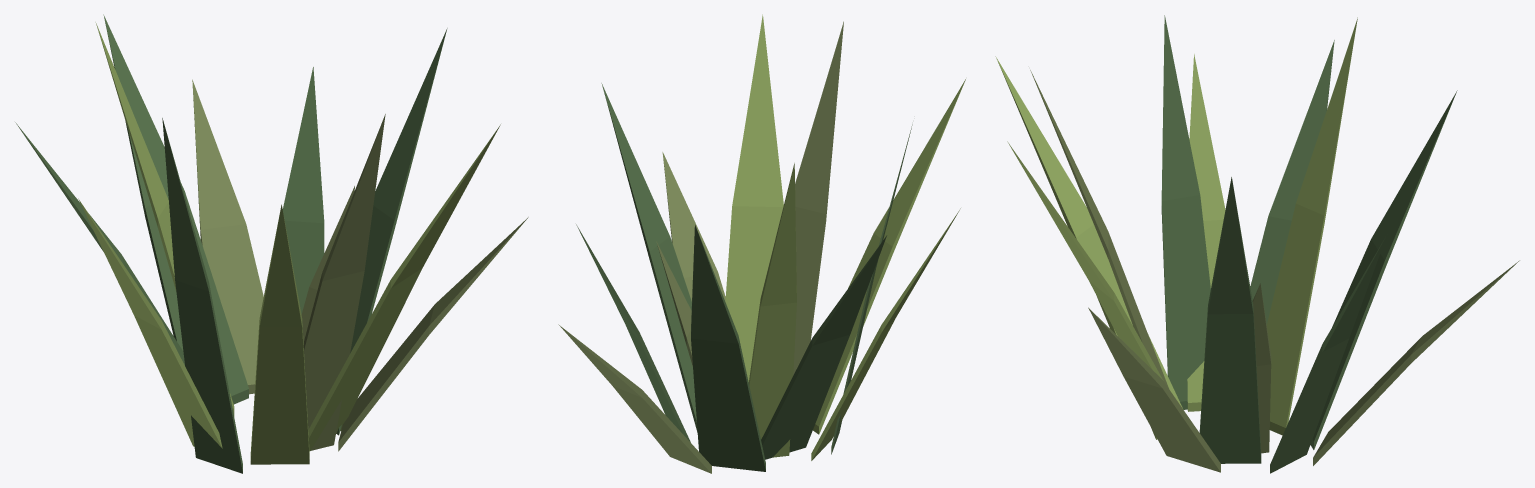
File: prop_grass_clump.glb
3 renders of one model, left to right at view 1: azimuth 30°, elevation 25°; view 2: azimuth 150°, elevation 25°; view 3: azimuth 270°, elevation 25°, orthographic. The views are drawn at different scales.
Visible parts, largest first — view 1: prop_grass_clump__Grass blade 07.001, prop_grass_clump__Grass blade 12.001, prop_grass_clump__Grass blade 02.001, prop_grass_clump__Grass blade 11.001, prop_grass_clump__Grass blade 10.001, prop_grass_clump__Grass blade 06.001, prop_grass_clump__Grass blade 03.001, prop_grass_clump__Grass blade 00.001, prop_grass_clump__Grass blade 04.001, prop_grass_clump__Grass blade 05.001, prop_grass_clump__Grass blade 01.001, prop_grass_clump__Grass blade 09.001 (+1 smaller); view 2: prop_grass_clump__Grass blade 10.001, prop_grass_clump__Grass blade 06.001, prop_grass_clump__Grass blade 01.001, prop_grass_clump__Grass blade 02.001, prop_grass_clump__Grass blade 09.001, prop_grass_clump__Grass blade 00.001, prop_grass_clump__Grass blade 07.001, prop_grass_clump__Grass blade 11.001, prop_grass_clump__Grass blade 05.001, prop_grass_clump__Grass blade 04.001, prop_grass_clump__Grass blade 03.001, prop_grass_clump__Grass blade 12.001 (+1 smaller); view 3: prop_grass_clump__Grass blade 12.001, prop_grass_clump__Grass blade 00.001, prop_grass_clump__Grass blade 01.001, prop_grass_clump__Grass blade 09.001, prop_grass_clump__Grass blade 05.001, prop_grass_clump__Grass blade 03.001, prop_grass_clump__Grass blade 06.001, prop_grass_clump__Grass blade 07.001, prop_grass_clump__Grass blade 04.001, prop_grass_clump__Grass blade 10.001, prop_grass_clump__Grass blade 11.001, prop_grass_clump__Grass blade 02.001 (+1 smaller).
Boxes of the visible parts, x1,y1,x2,y2 form: prop_grass_clump__Grass blade 07.001: [250, 204, 309, 464]; prop_grass_clump__Grass blade 12.001: [162, 118, 242, 473]; prop_grass_clump__Grass blade 02.001: [303, 114, 385, 450]; prop_grass_clump__Grass blade 11.001: [192, 79, 263, 394]; prop_grass_clump__Grass blade 10.001: [308, 124, 500, 450]; prop_grass_clump__Grass blade 06.001: [103, 14, 248, 404]; prop_grass_clump__Grass blade 03.001: [282, 67, 324, 313]; prop_grass_clump__Grass blade 00.001: [336, 28, 447, 435]; prop_grass_clump__Grass blade 04.001: [78, 198, 222, 448]; prop_grass_clump__Grass blade 05.001: [338, 217, 528, 451]; prop_grass_clump__Grass blade 01.001: [95, 22, 234, 416]; prop_grass_clump__Grass blade 09.001: [15, 122, 184, 365]; prop_grass_clump__Grass blade 10.001: [725, 14, 783, 381]; prop_grass_clump__Grass blade 06.001: [691, 225, 765, 471]; prop_grass_clump__Grass blade 01.001: [748, 163, 796, 457]; prop_grass_clump__Grass blade 02.001: [793, 21, 843, 374]; prop_grass_clump__Grass blade 09.001: [761, 235, 886, 459]; prop_grass_clump__Grass blade 00.001: [601, 83, 697, 432]; prop_grass_clump__Grass blade 07.001: [813, 79, 965, 434]; prop_grass_clump__Grass blade 11.001: [558, 324, 711, 473]; prop_grass_clump__Grass blade 05.001: [662, 152, 725, 301]; prop_grass_clump__Grass blade 04.001: [811, 208, 960, 460]; prop_grass_clump__Grass blade 03.001: [576, 224, 690, 442]; prop_grass_clump__Grass blade 12.001: [831, 124, 912, 454]; prop_grass_clump__Grass blade 12.001: [1161, 15, 1210, 409]; prop_grass_clump__Grass blade 00.001: [1199, 177, 1261, 463]; prop_grass_clump__Grass blade 01.001: [1267, 17, 1357, 435]; prop_grass_clump__Grass blade 09.001: [1250, 40, 1334, 324]; prop_grass_clump__Grass blade 05.001: [1088, 307, 1220, 472]; prop_grass_clump__Grass blade 03.001: [1270, 234, 1387, 473]; prop_grass_clump__Grass blade 06.001: [1310, 90, 1457, 449]; prop_grass_clump__Grass blade 07.001: [995, 56, 1182, 439]; prop_grass_clump__Grass blade 04.001: [1187, 54, 1225, 411]; prop_grass_clump__Grass blade 10.001: [1007, 141, 1163, 380]; prop_grass_clump__Grass blade 11.001: [1313, 260, 1519, 465]; prop_grass_clump__Grass blade 02.001: [1030, 70, 1168, 388].
Bounding box in the file's own units: 0.5366 × 0.5156 × 0.6498.
